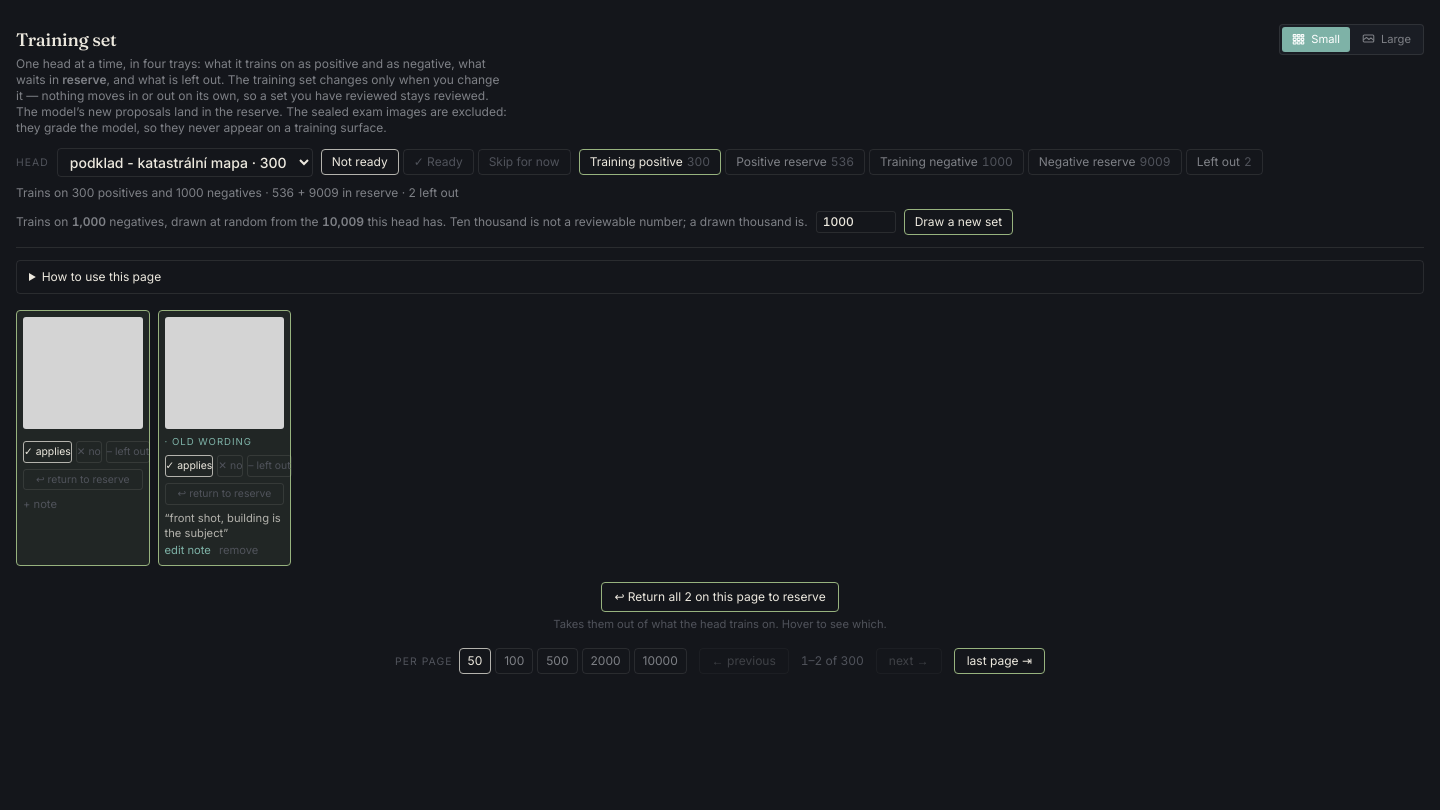
Scenario: <NewDedupTrainingSet> moving between reserve and the training set › returns an admitted photo to the reserve
The width and height of the screenshot is (1440, 810).
Click the button with test id "move-11".
click(83, 479)  # box [23,468,143,490]
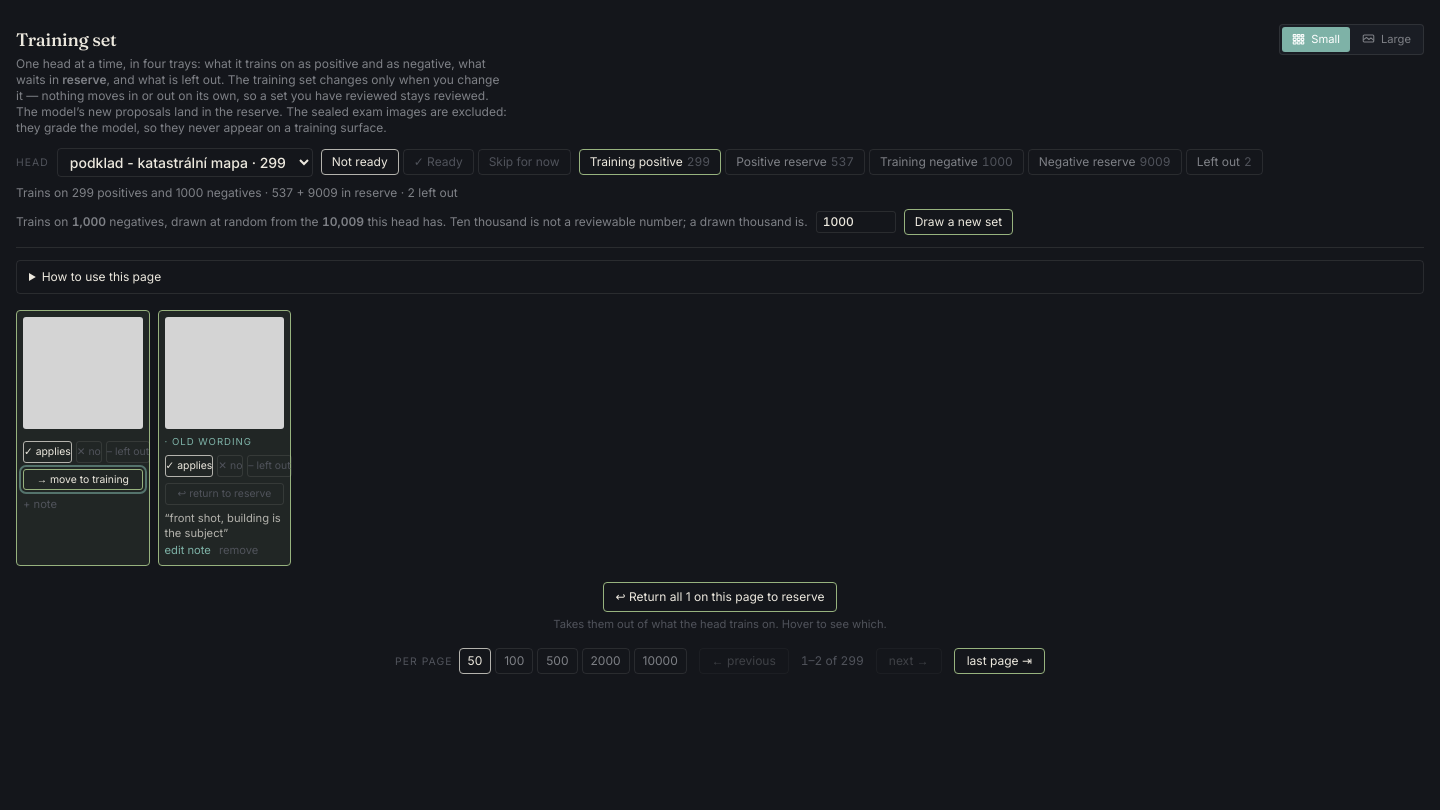
Expected: the text with test id "tray-count-positive" reads "299", [687,154,710,169]
Expected: the text with test id "tray-count-positive_reserve" reads "537", [831,154,854,169]
